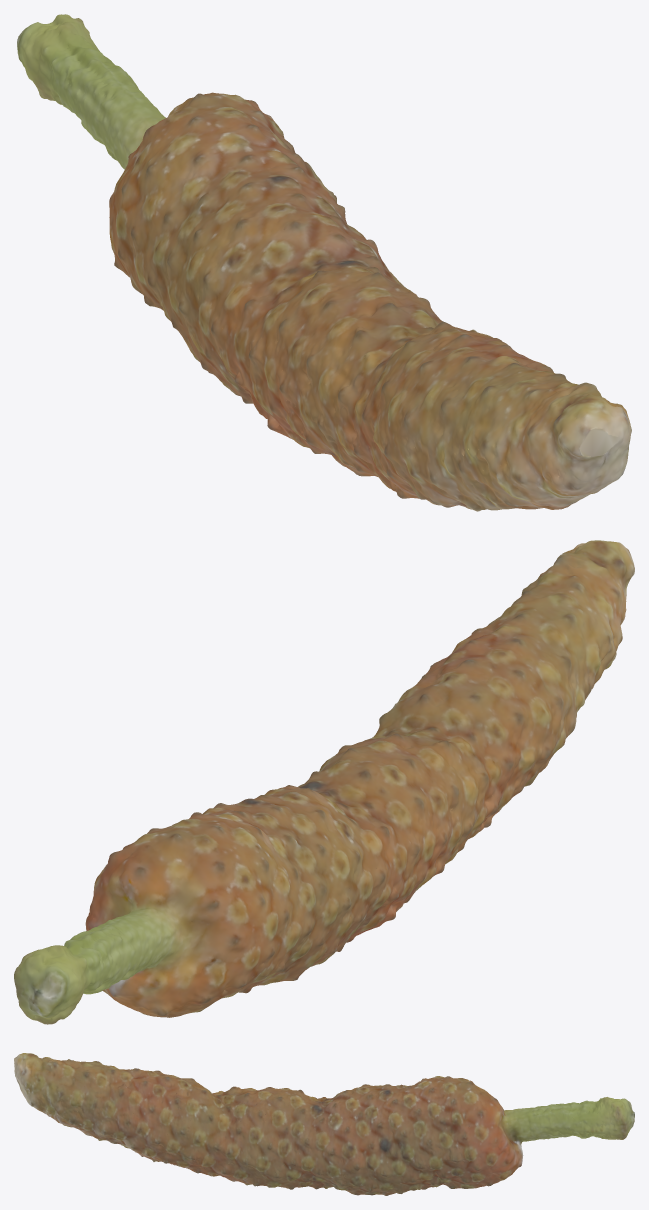
File: long-pepper-real-scan.glb
3 views of the same model, one above another, from view 1: azimuth 30°, elevation 25°; view 2: azimuth 150°, elevation 25°; view 3: azimuth 270°, elevation 25° (orthographic). The views are drawn at different scales.
Visible parts, largest first — view 1: Object_5, Object_4, Object_6; view 2: Object_6, Object_5, Object_4; view 3: Object_4, Object_5, Object_6.
Boxes of the visible parts, bbox=[...] form: Object_5: bbox=[132, 92, 555, 510]; Object_4: bbox=[271, 166, 631, 511]; Object_6: bbox=[17, 14, 518, 509]; Object_6: bbox=[14, 621, 617, 1024]; Object_5: bbox=[85, 610, 608, 1017]; Object_4: bbox=[214, 540, 634, 808]; Object_4: bbox=[14, 1053, 432, 1189]; Object_5: bbox=[59, 1073, 506, 1195]; Object_6: bbox=[65, 1077, 634, 1195].
Bounding box in the file's own units: 9.88 × 11.2 × 49.13.
